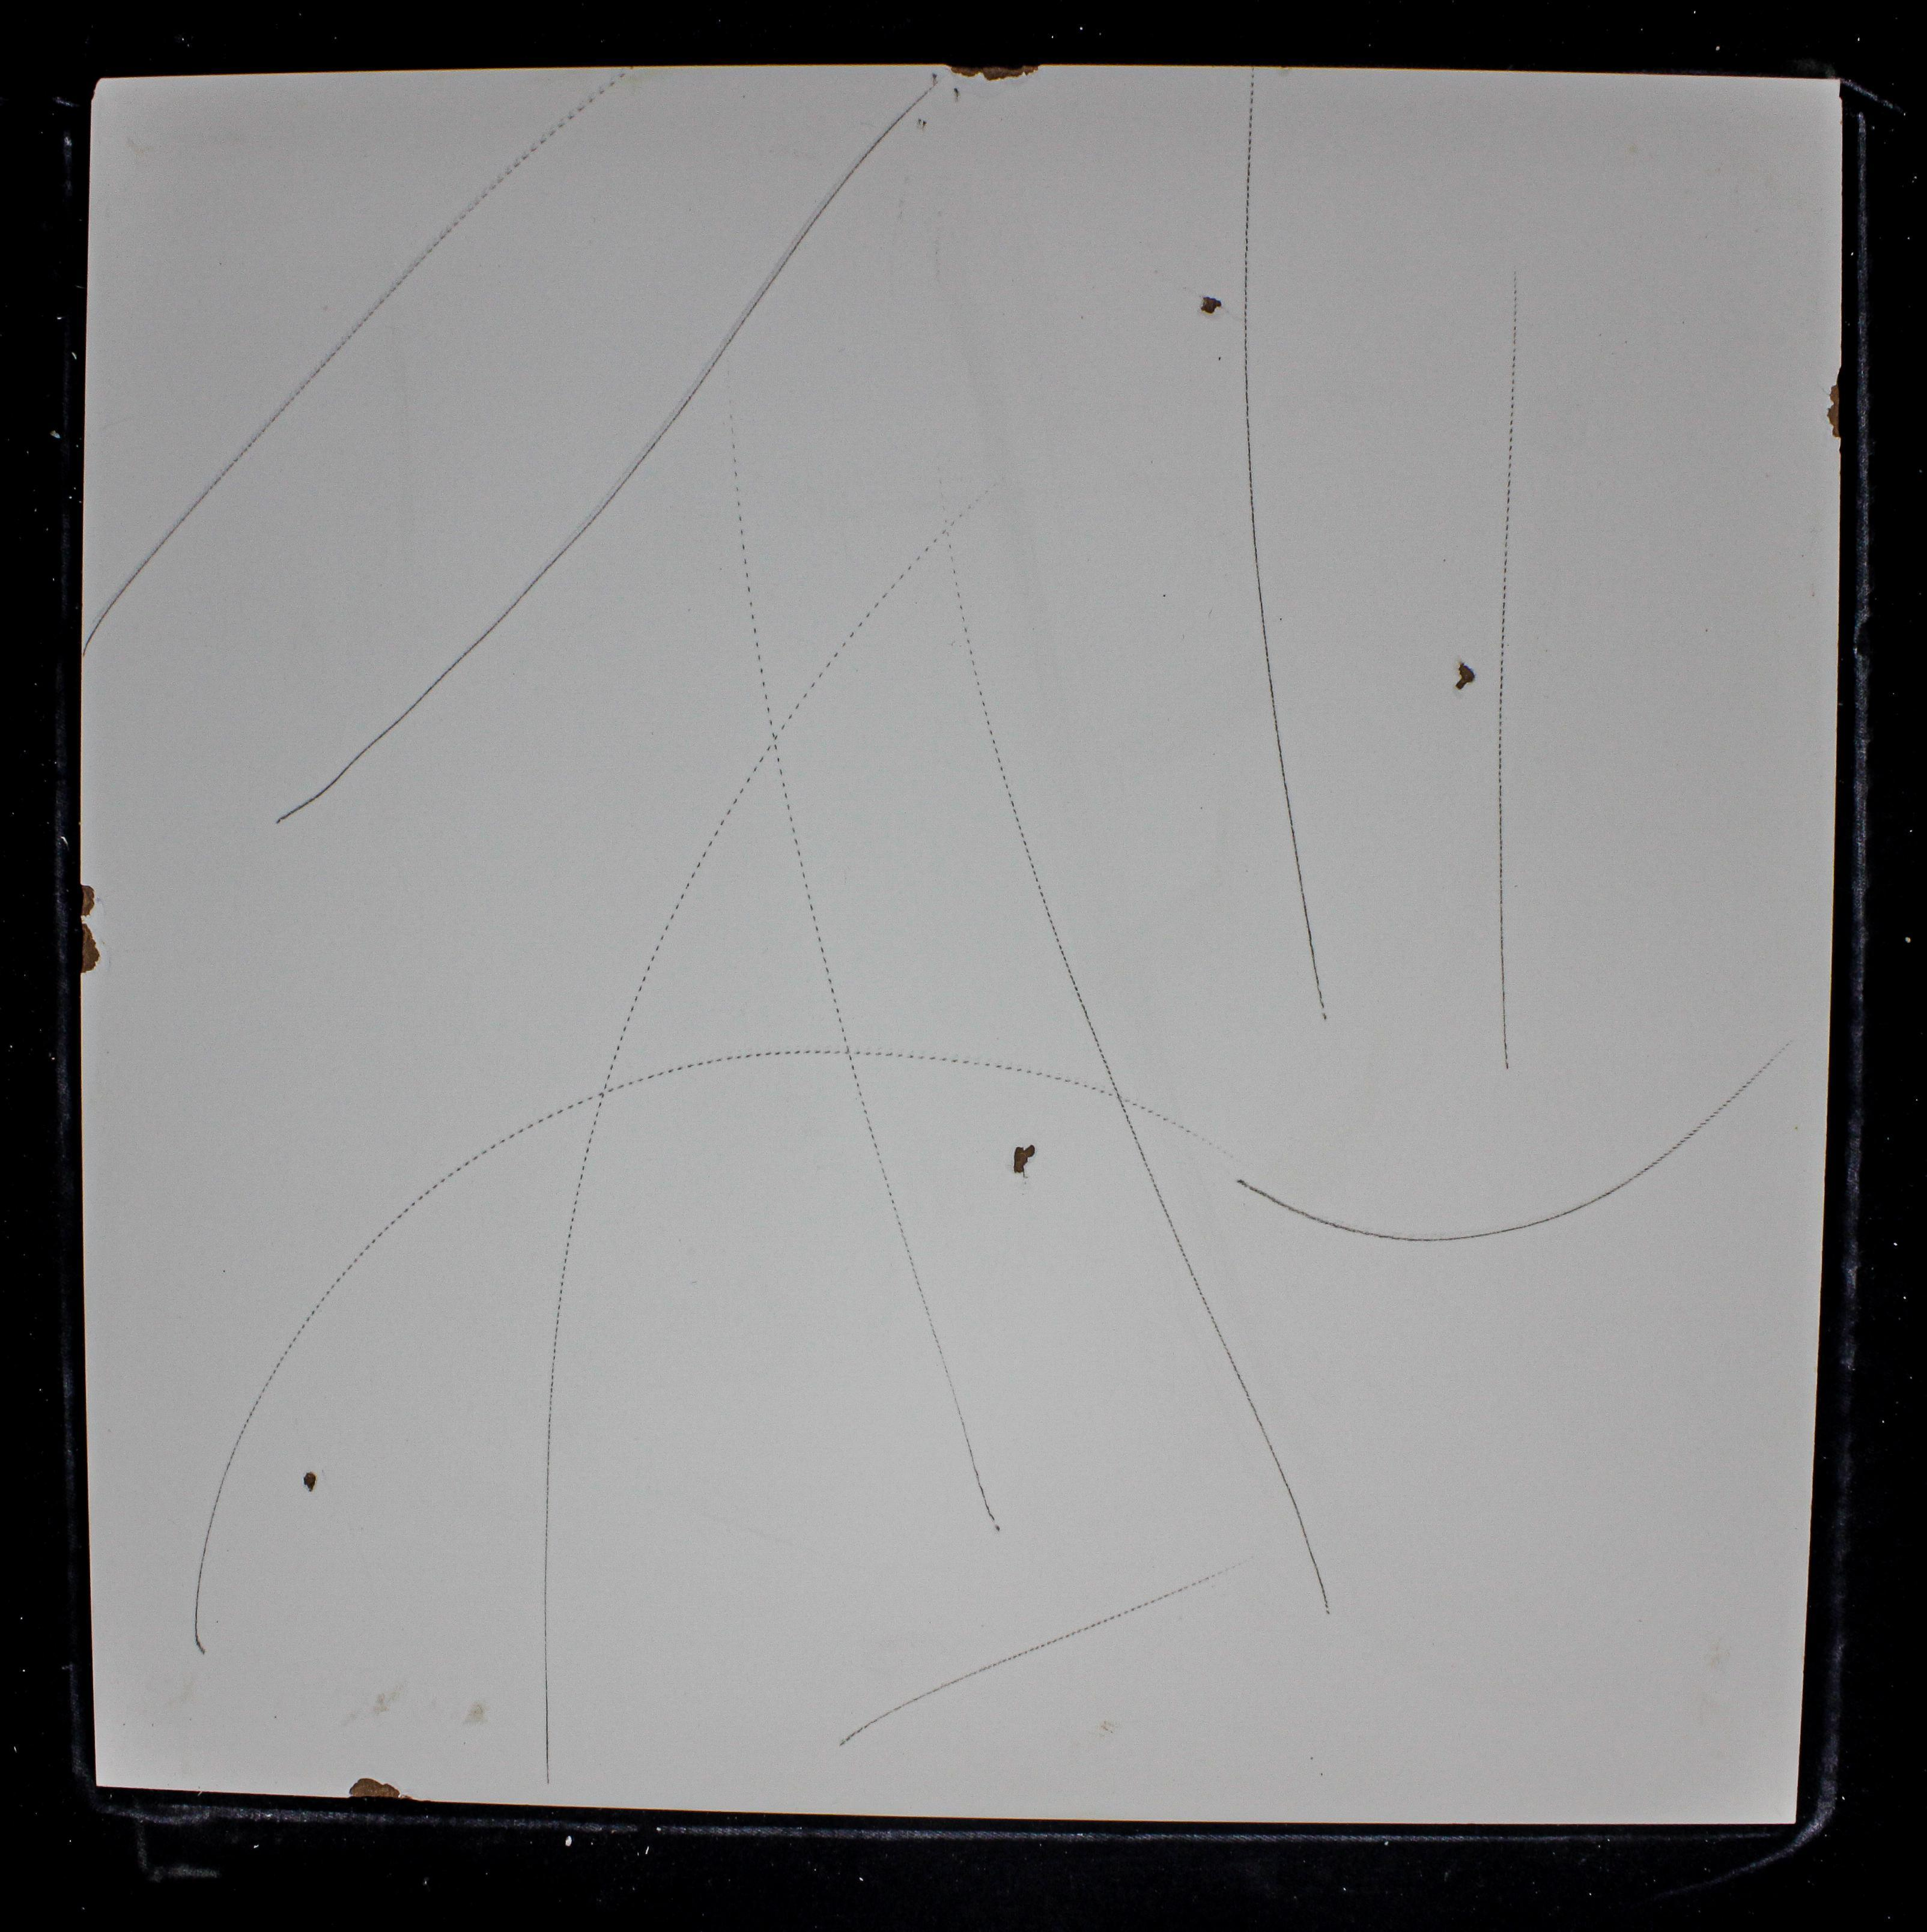edge-chipping: (942, 56, 1045, 83), (1823, 367, 1844, 441), (348, 1777, 401, 1801), (79, 923, 101, 976), (81, 884, 95, 916)
hole: (1013, 1143, 1036, 1180), (1454, 662, 1475, 690), (1200, 295, 1221, 312), (304, 1471, 318, 1493)
line: (854, 1073, 1002, 1535), (840, 1577, 1209, 1754), (275, 595, 519, 824), (524, 348, 725, 593), (727, 111, 911, 344), (289, 1142, 505, 1339), (85, 434, 261, 653), (263, 229, 448, 431), (194, 1348, 291, 1653), (1235, 1173, 1639, 1244), (452, 72, 630, 229), (1232, 1357, 1332, 1616), (1135, 1142, 1230, 1355), (1269, 678, 1327, 1016), (544, 1129, 595, 1491), (1241, 138, 1272, 670), (1646, 1060, 1775, 1168), (1495, 291, 1521, 753), (1052, 926, 1110, 1075), (1495, 760, 1512, 1071), (540, 1496, 554, 1786)
